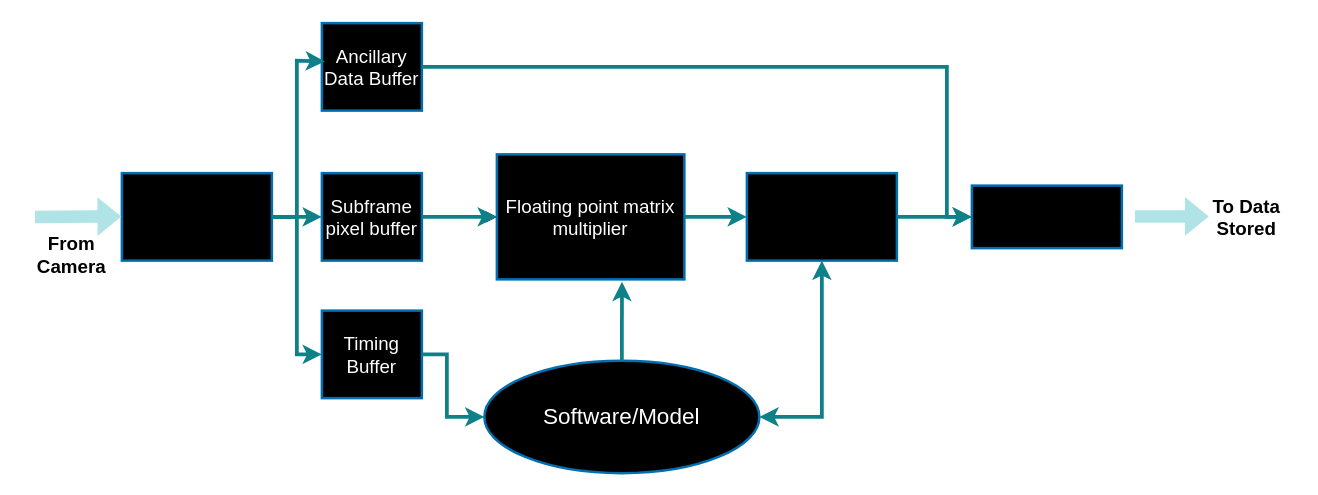
Some shapes in this 1318 by 495 pixel diagram are drawn without their labels. Each missing label, with the box of its shape:
Output Interface: (970, 184, 1122, 249)
persistent FIFO: (745, 171, 898, 261)
Seperate pixel , ancillary , timing data: (120, 171, 272, 261)
